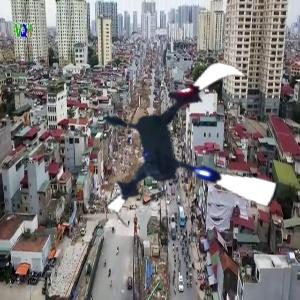drone: (89, 44, 290, 245)
